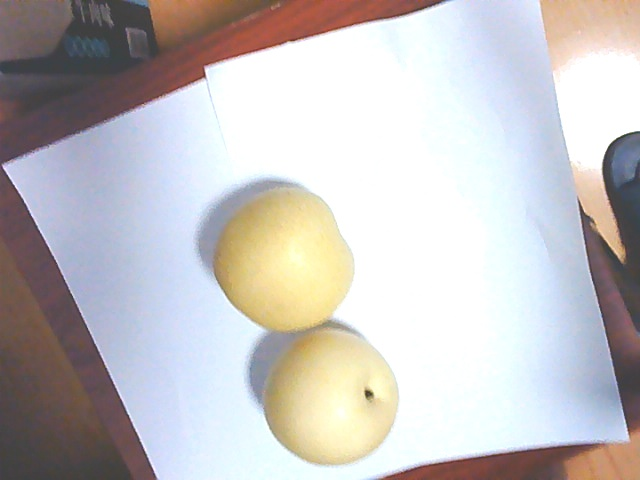pear: (257, 326, 405, 462), (215, 192, 360, 321)
